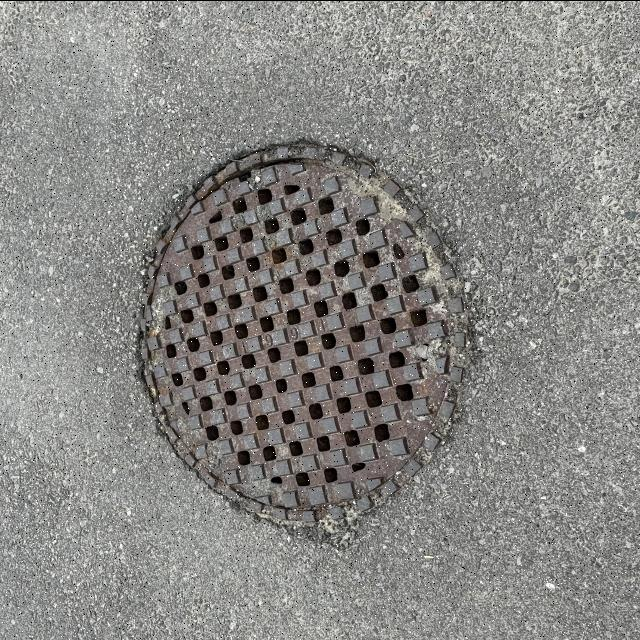Manhole: (134, 136, 476, 524)
